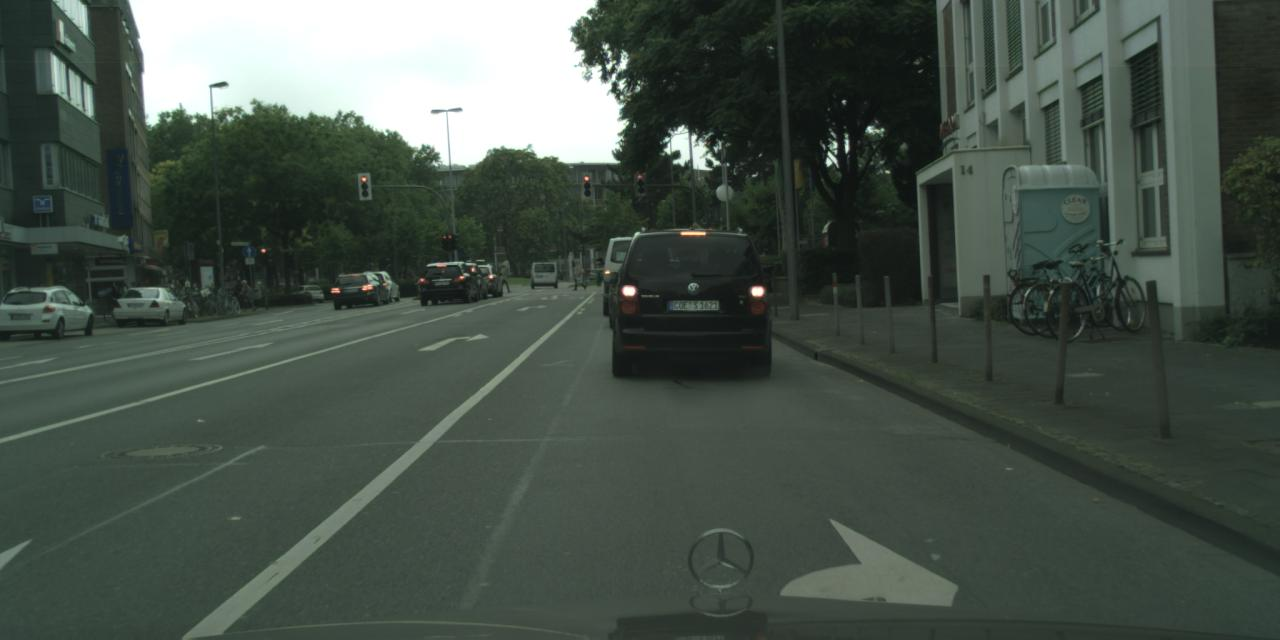ped: (140, 279, 152, 310), (240, 279, 252, 310), (128, 281, 140, 311), (572, 260, 584, 290), (499, 263, 510, 293)
